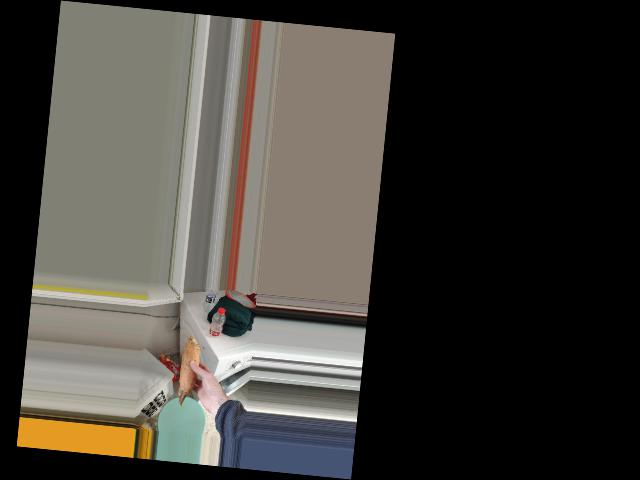sweet_potato: (176, 340, 204, 402)
